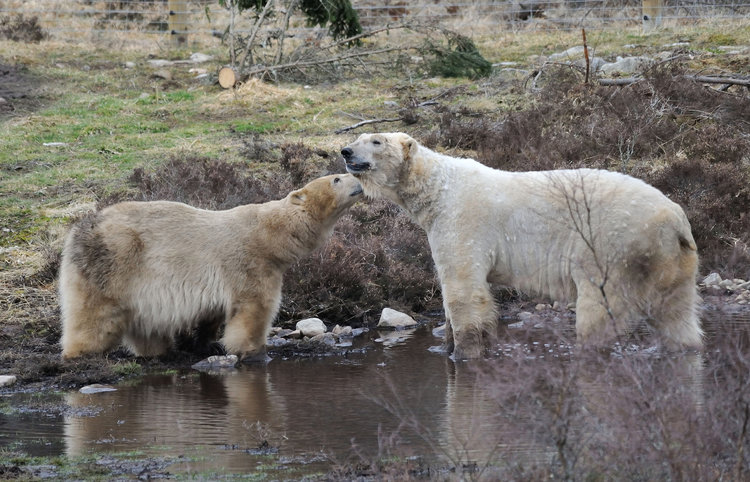Polar Bear: (349, 110, 730, 372), (28, 149, 376, 372)
